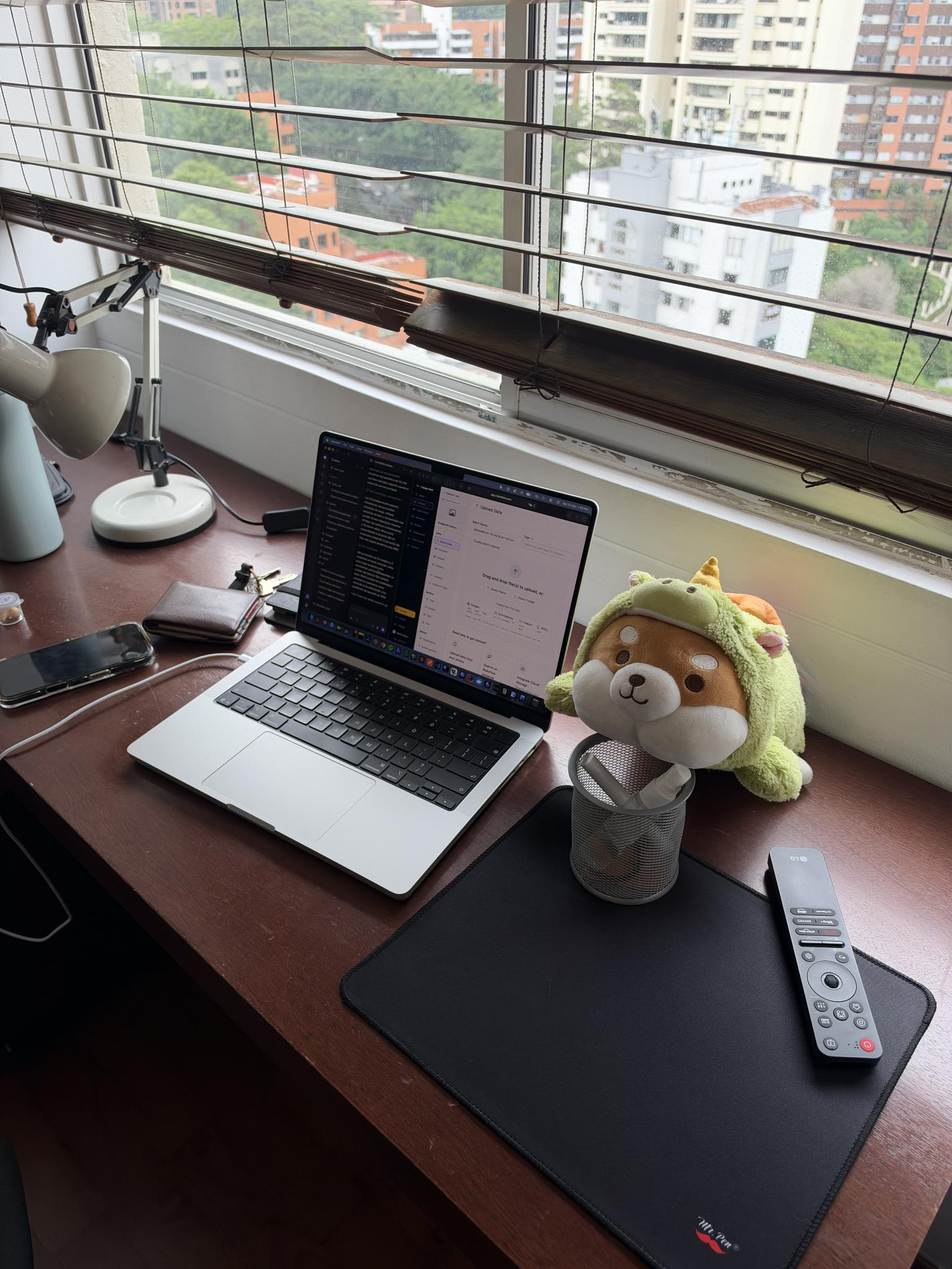peluche_martin: (544, 556, 814, 803)
